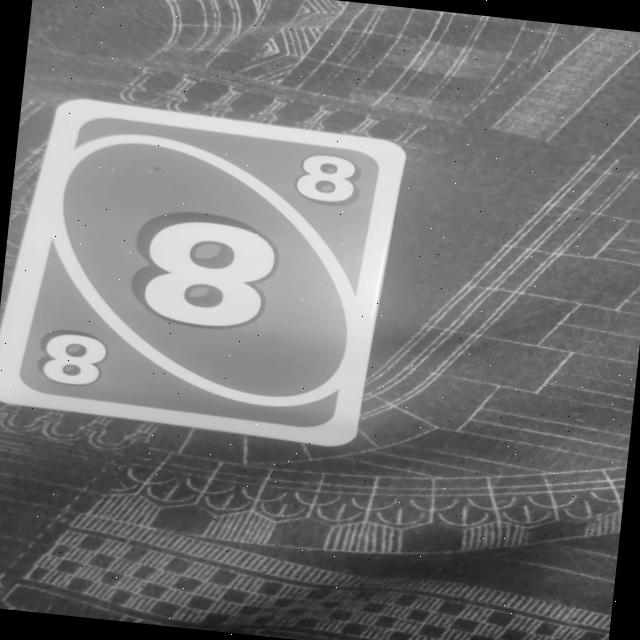card_8: (0, 91, 409, 451)
